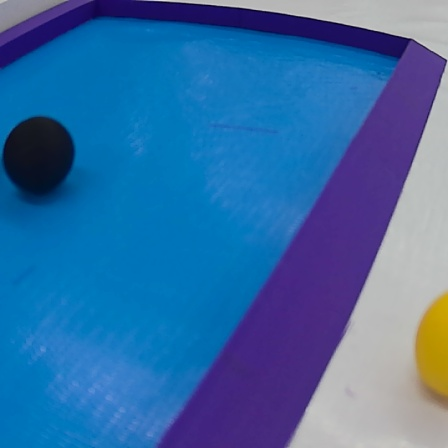black: (8, 113, 78, 201)
blue_aim: (2, 2, 448, 448)
yellow: (412, 289, 448, 409)
